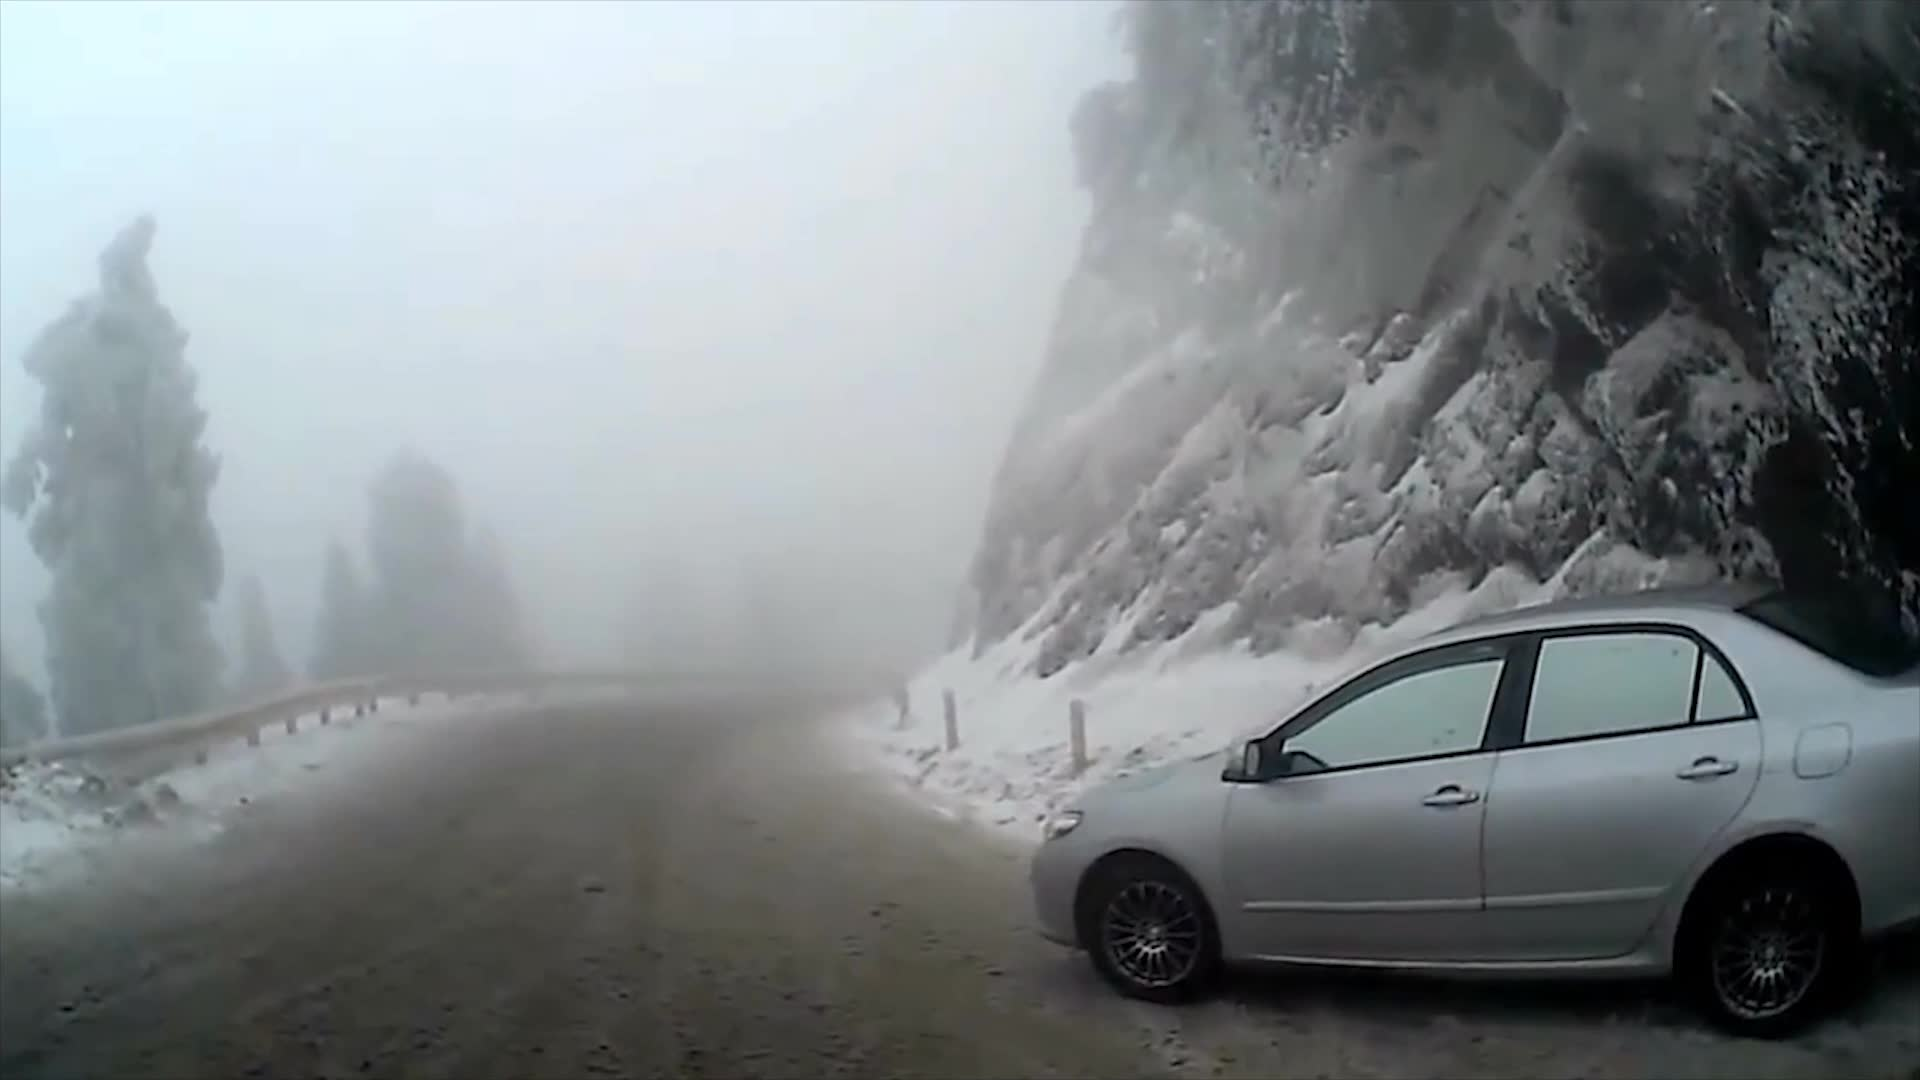vehicle: (1030, 583, 1920, 1046)
